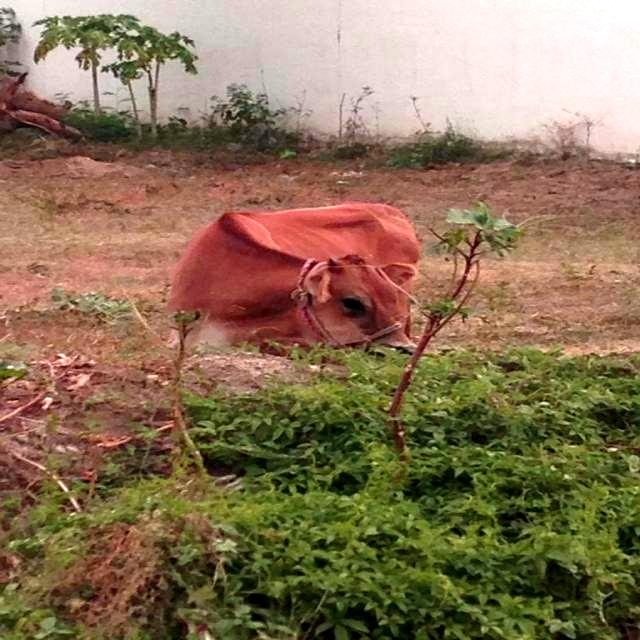COW: (170, 202, 419, 347)
